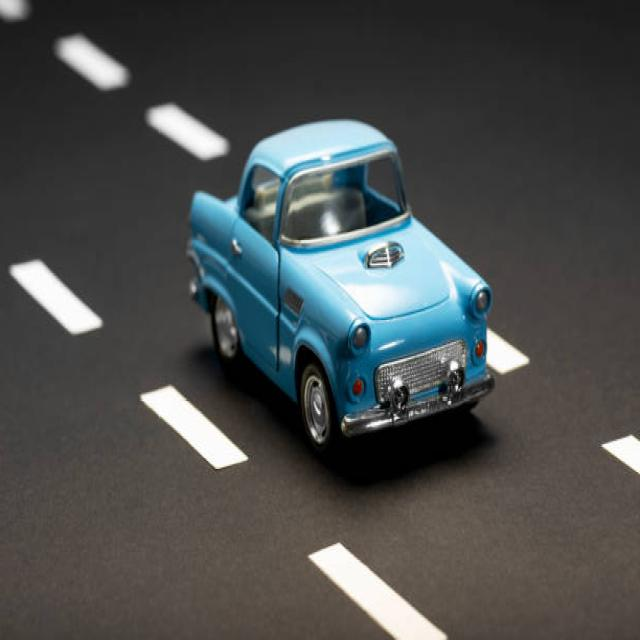Car: (186, 116, 496, 455)
